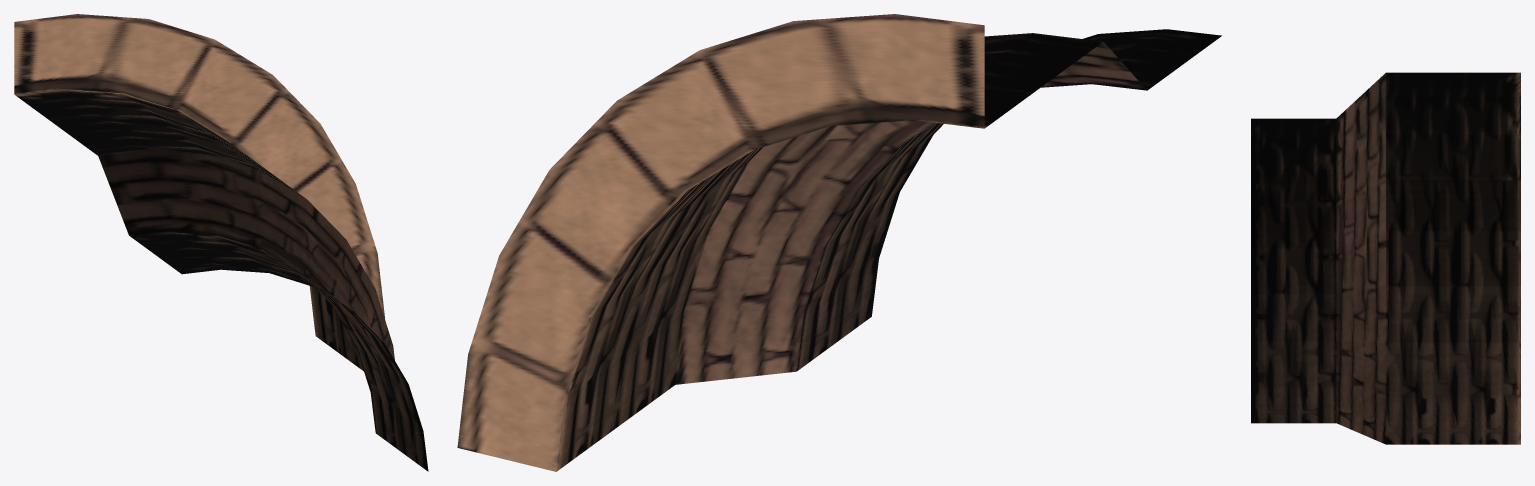
Rendered from ex_2InCorner3.obj.
The picture shows the model from 3 angles, left to right: view 1: azimuth 30°, elevation 25°; view 2: azimuth 150°, elevation 25°; view 3: azimuth 270°, elevation 25°; orthographic projection. The views are drawn at different scales.
Visible parts, largest first — view 1: ex_InCorner3_Cube.006; view 2: ex_InCorner3_Cube.006; view 3: ex_InCorner3_Cube.006.
Boxes of the visible parts, left/top/right/bottom form: ex_InCorner3_Cube.006: left=14, top=14, right=428, bottom=471; ex_InCorner3_Cube.006: left=457, top=14, right=1221, bottom=471; ex_InCorner3_Cube.006: left=1251, top=72, right=1520, bottom=444.
Size of the model in its own units: 174 by 174 by 136.
